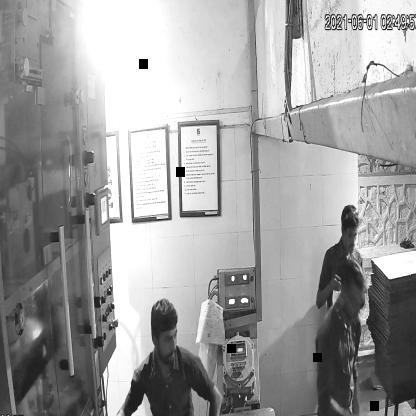no_goggles: (148, 322, 180, 349)
